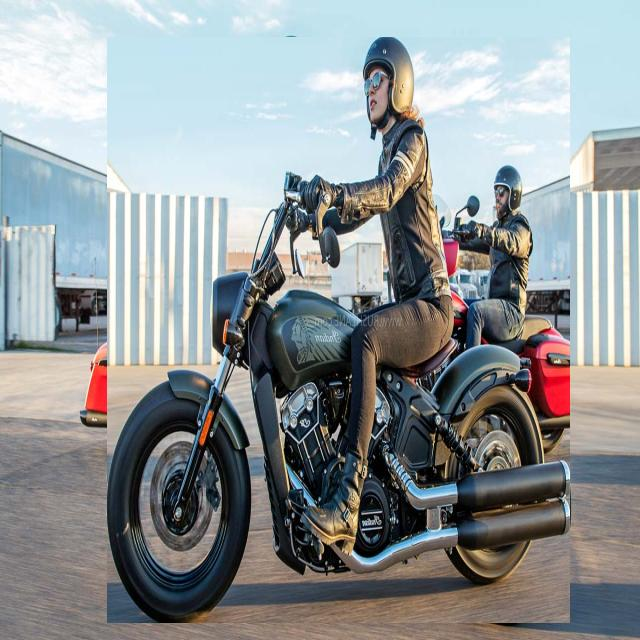motorcycle: (108, 38, 570, 623)
